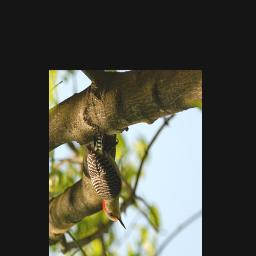Woodpecker: (87, 126, 126, 230)
